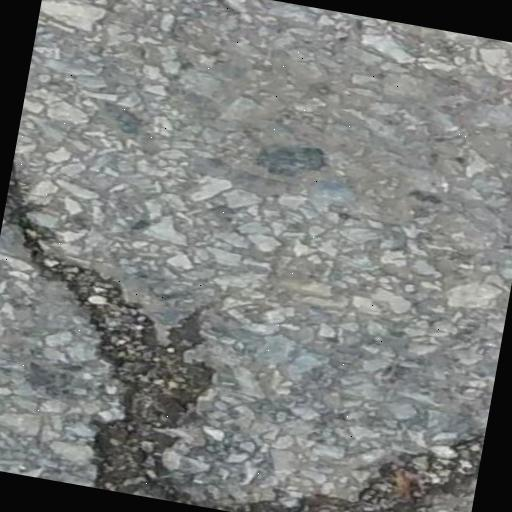spalling: (0, 129, 484, 512)
